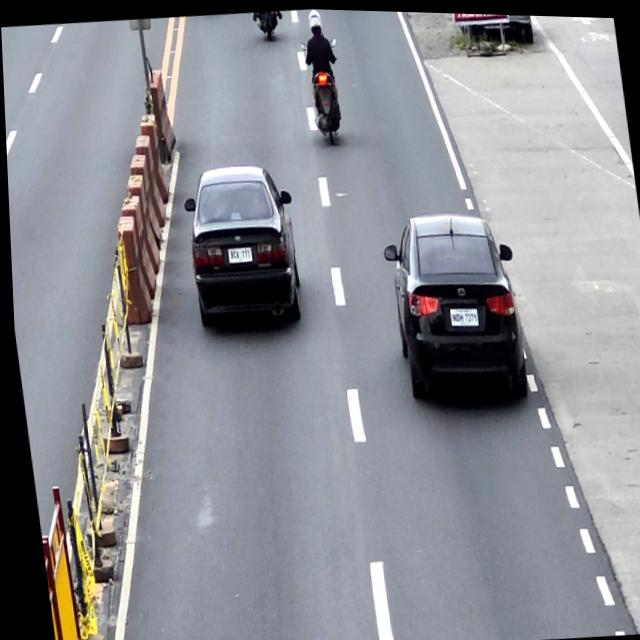Car: (378, 202, 529, 404), (176, 157, 305, 331)
License-Plate: (446, 303, 476, 326), (225, 245, 250, 261)
Motorcycle: (298, 33, 349, 145)
